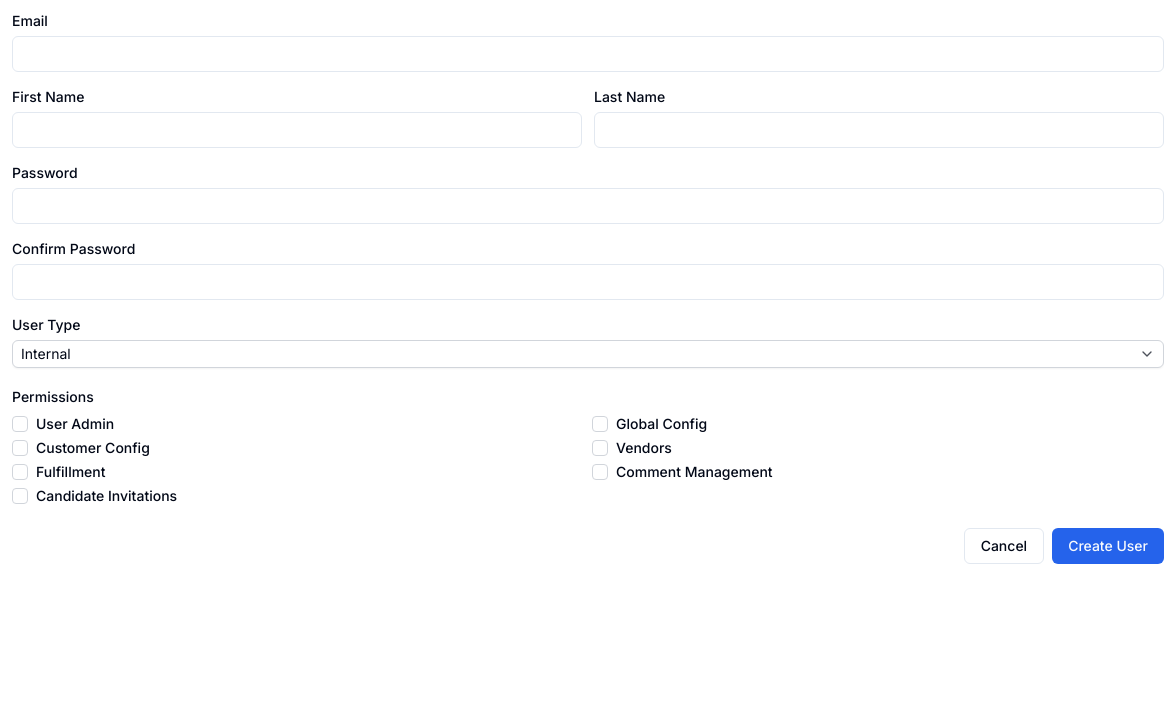
Test case: UserForm › Customer API Response Handling › should handle paginated customer API response correctly after fix
Note: Select customer type
Click the dropdown named "user type".
click(46, 354)  # box [12,340,1164,368]
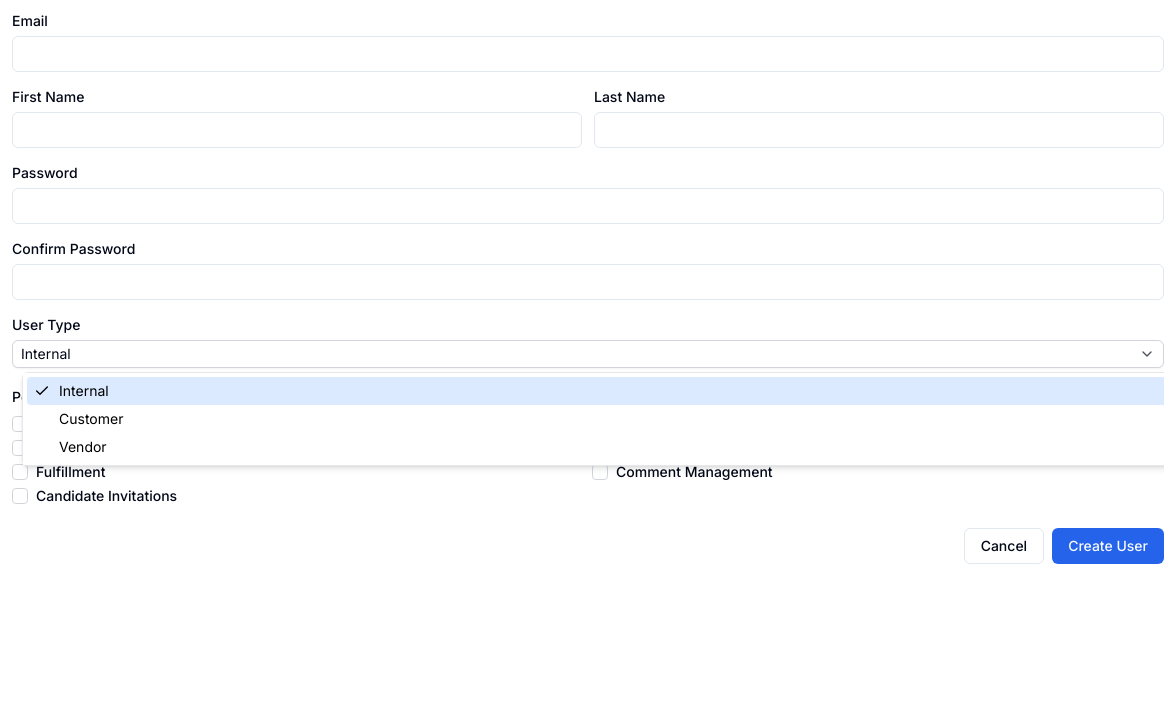
Click the option "Customer".
click(91, 418)  # box [59,410,123,427]
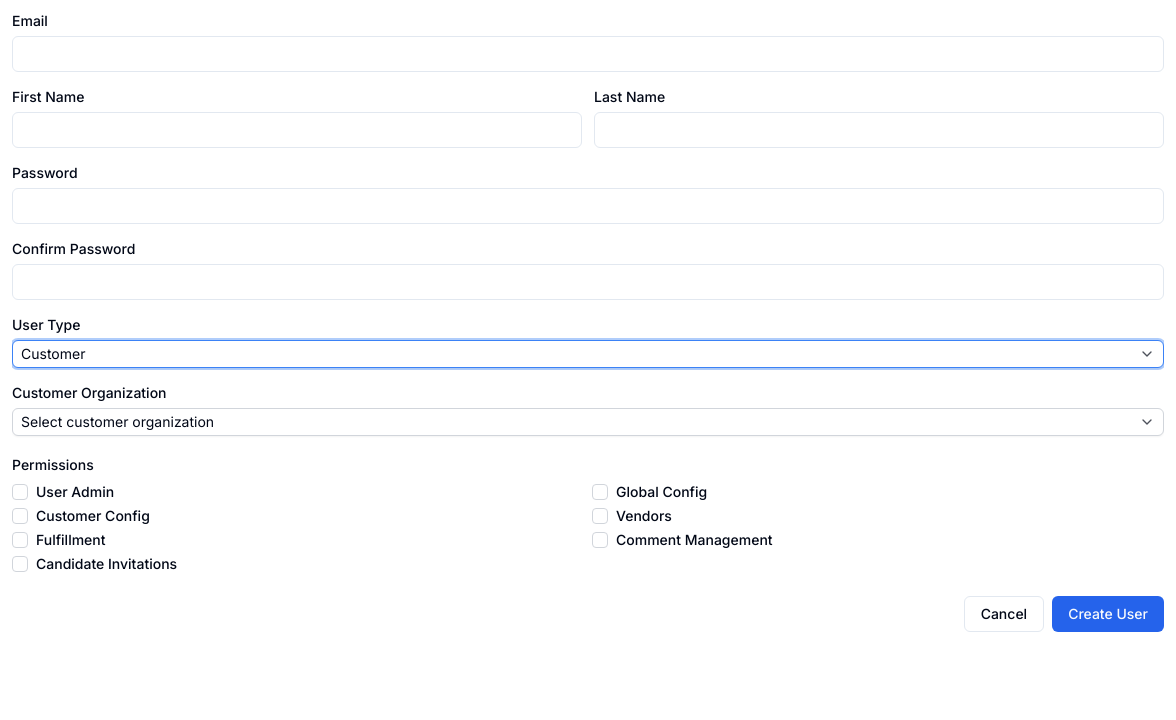
Expected: the text "Customer Organization" is shown, [12,384,166,401]
Note: Verify we can open the dropdown and see customer options
Click the dropdown labelled "Select customer organization".
click(118, 422)  # box [12,408,1164,436]
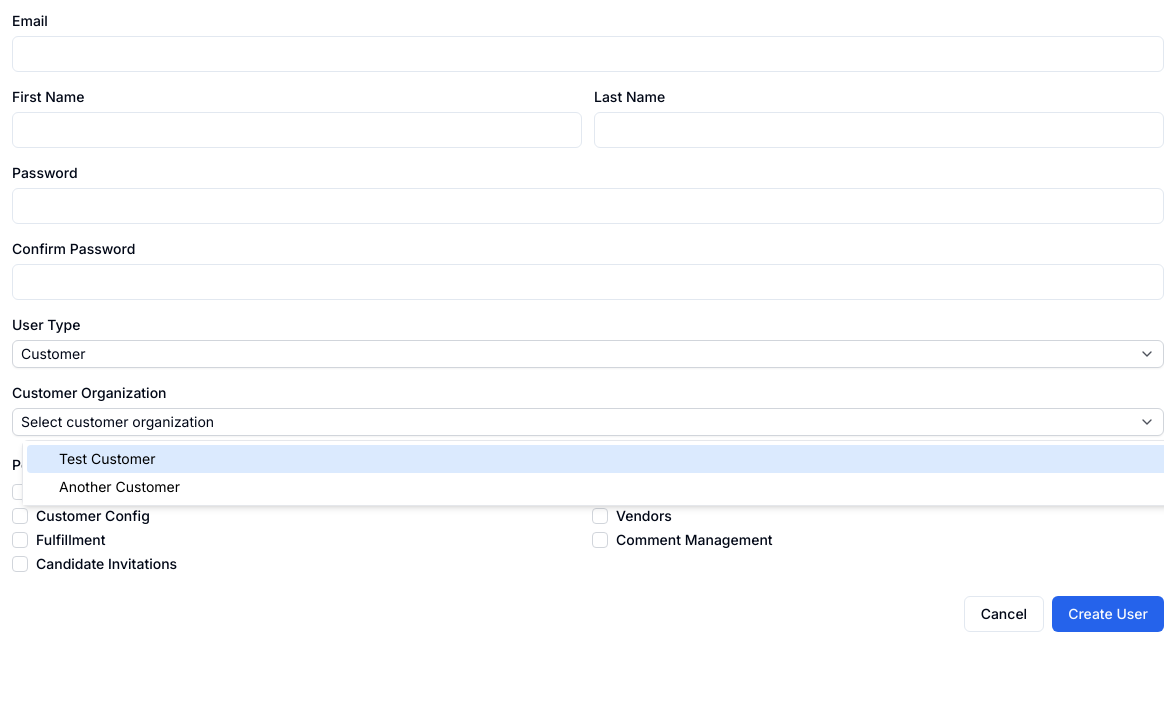
Expected: the option "Another Customer" is shown, [59,478,180,495]
